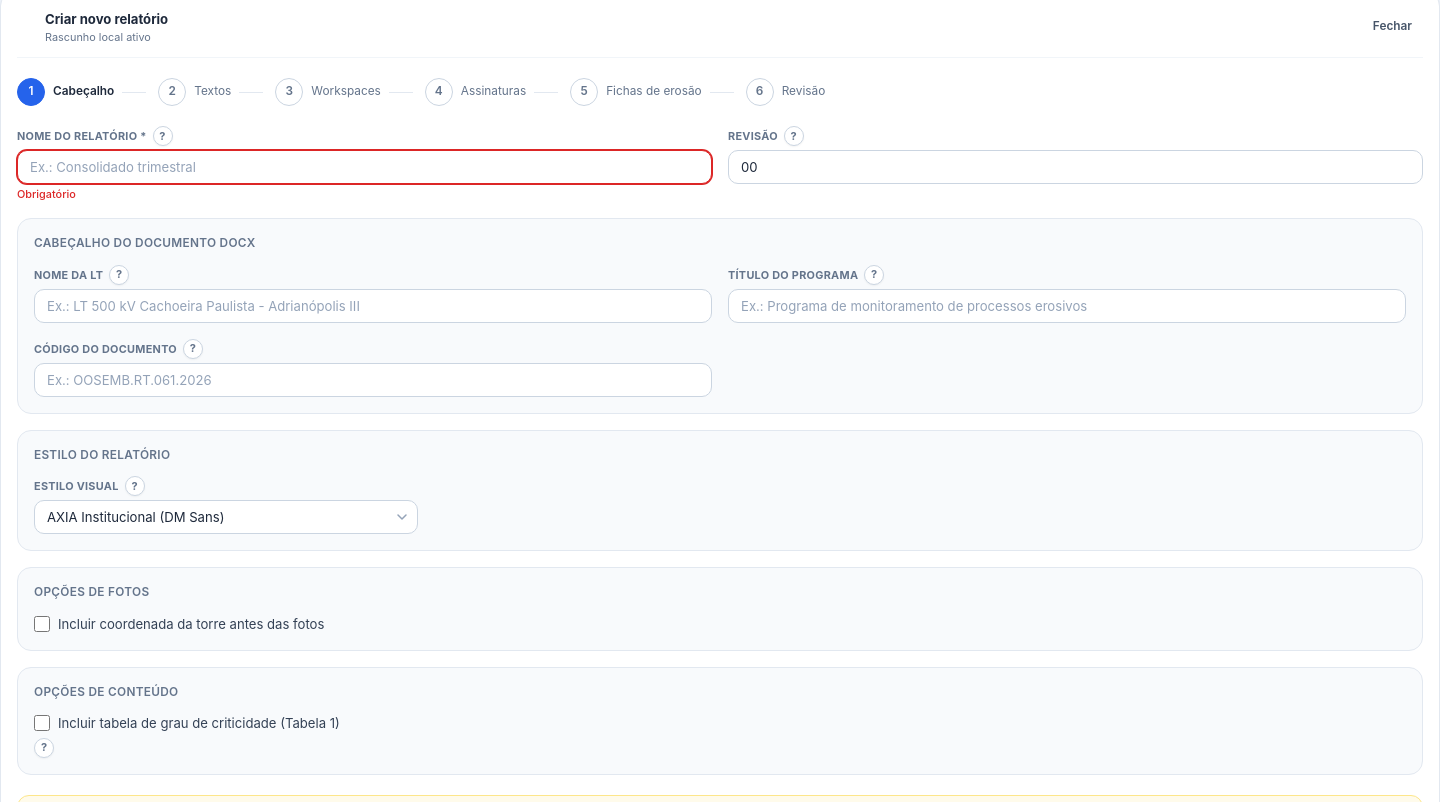
Test case: CompoundWizard › bloqueia o botao final quando missingRequired > 0
Note: ir direto para Revisao
Click the button with test id "wizard-step-bubble-revisao": (760, 92) [746, 78, 774, 106]
(page scrolled)
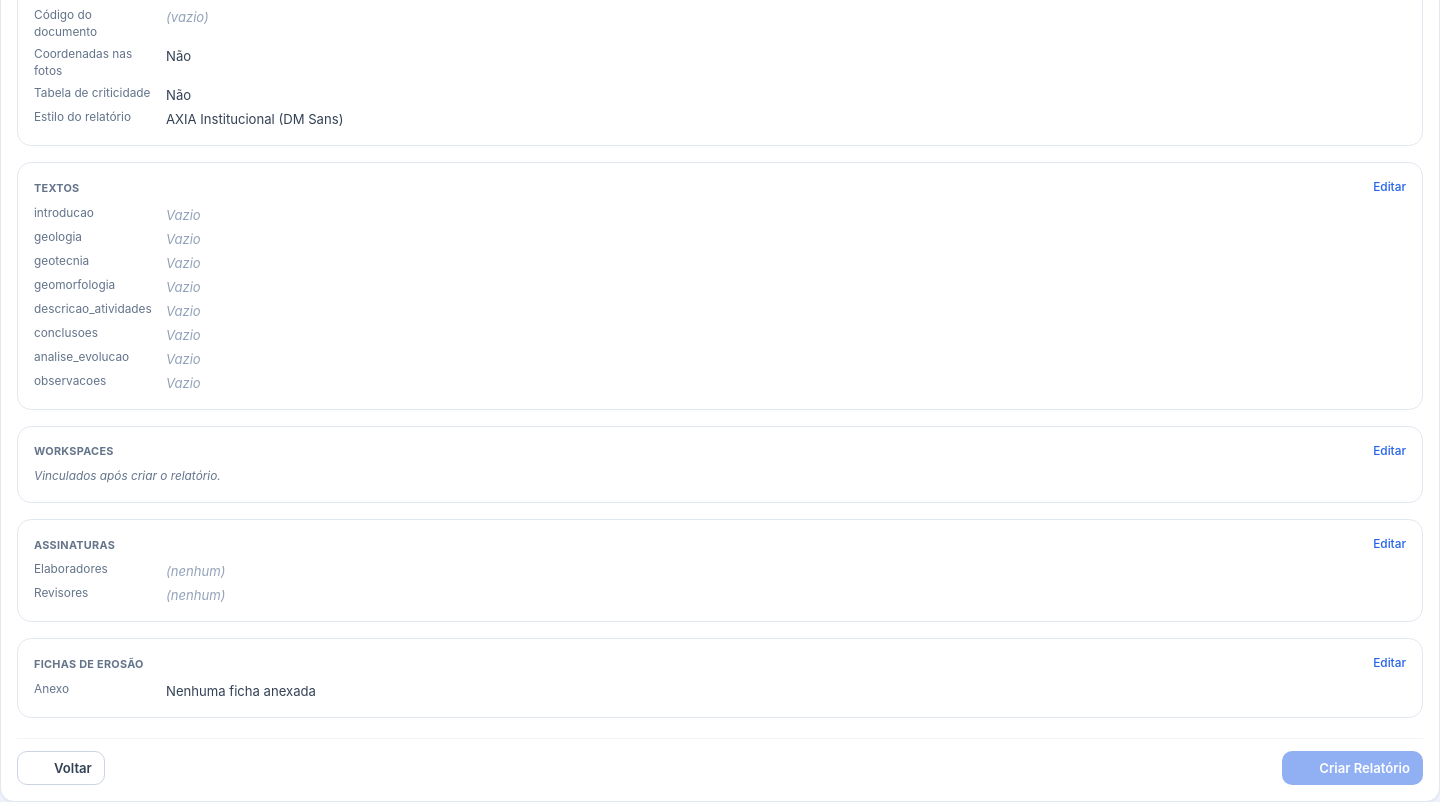
Expected: the button with test id "wizard-submit" is disabled, [1282, 751, 1423, 785]
